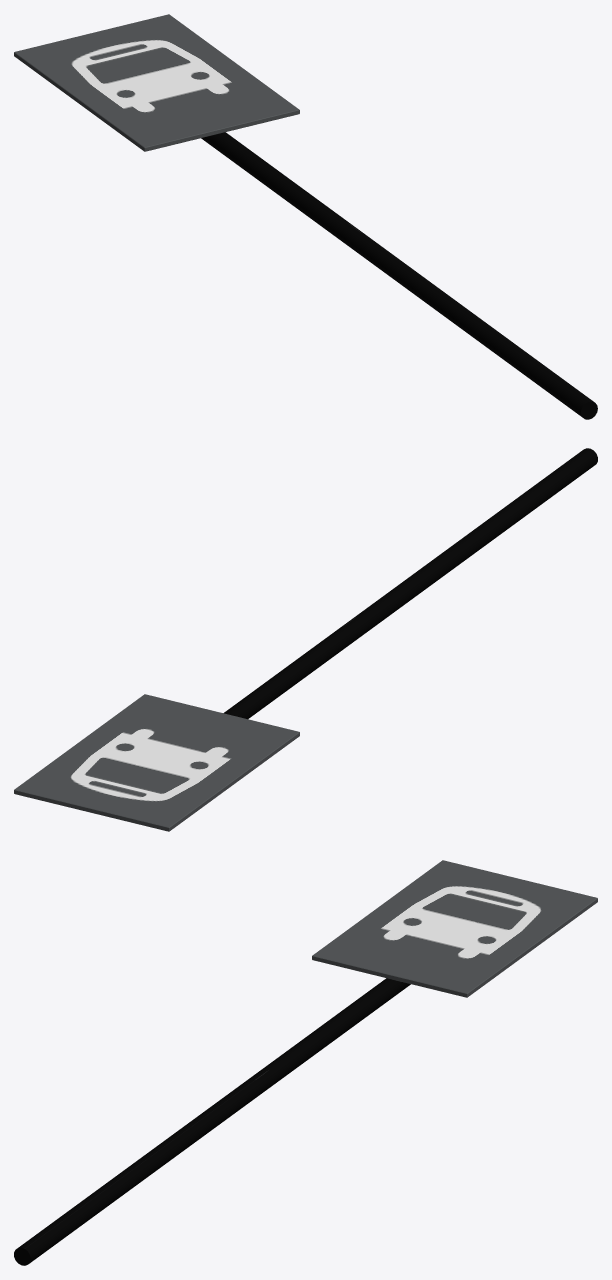
Rendered from bus_stop_sign_-_low_poly.glb.
3 views of the same model, one above another, from view 1: azimuth 30°, elevation 25°; view 2: azimuth 150°, elevation 25°; view 3: azimuth 330°, elevation 25° (orthographic).
Parts seen in each view (by area): view 1: BusSigh; view 2: BusSigh; view 3: BusSigh.
Part boxes in pixels (<box>): BusSigh: <box>14,14,597,419</box>; BusSigh: <box>14,448,597,831</box>; BusSigh: <box>14,860,597,1265</box>.
Size of the model in its own units: 0.419 by 0.0697 by 2.32.
1 material, 1 textured.
